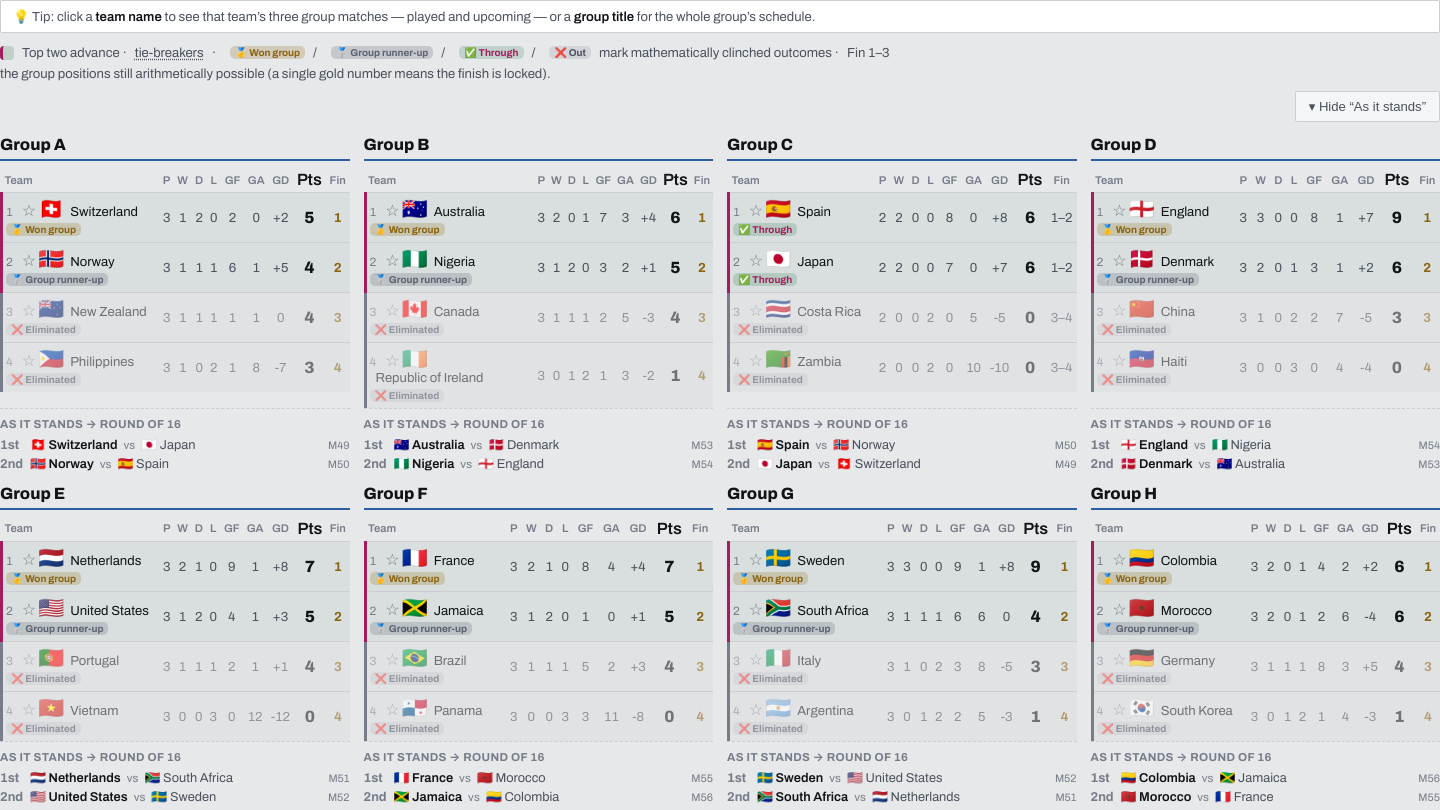
Test: Group games pop-up › shows a confirmed (non-provisional) matchup when the opponent is locked
Click the button "Australia".
click(459, 212)  # box [434,204,485,220]
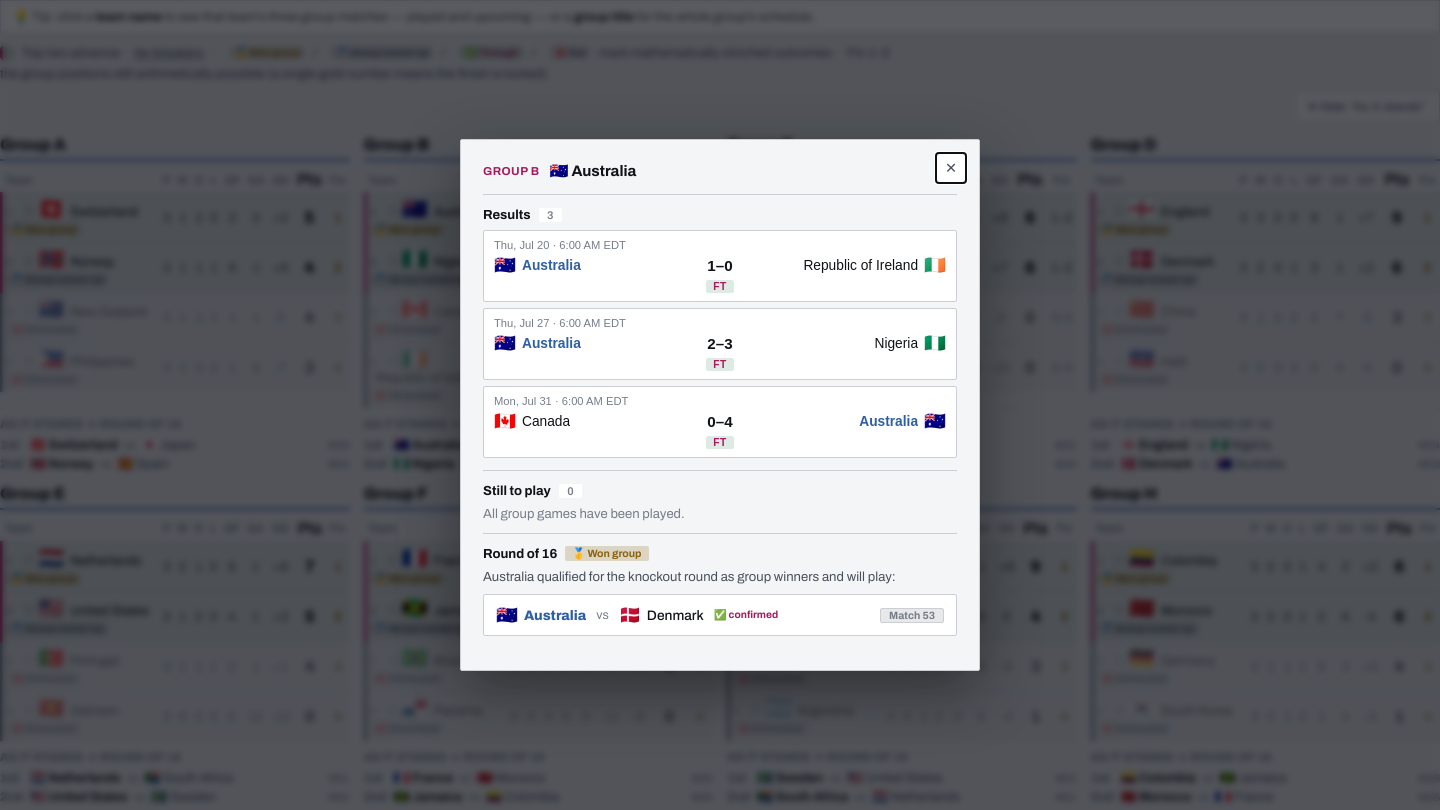
Result: the element with class "gg-knockout" is shown at [483,533,957,636]
Result: the element with class "gg-ko-match" shows "Denmark" at [647,608,704,622]
Result: the text "✅ confirmed" is shown at [714,609,778,621]
